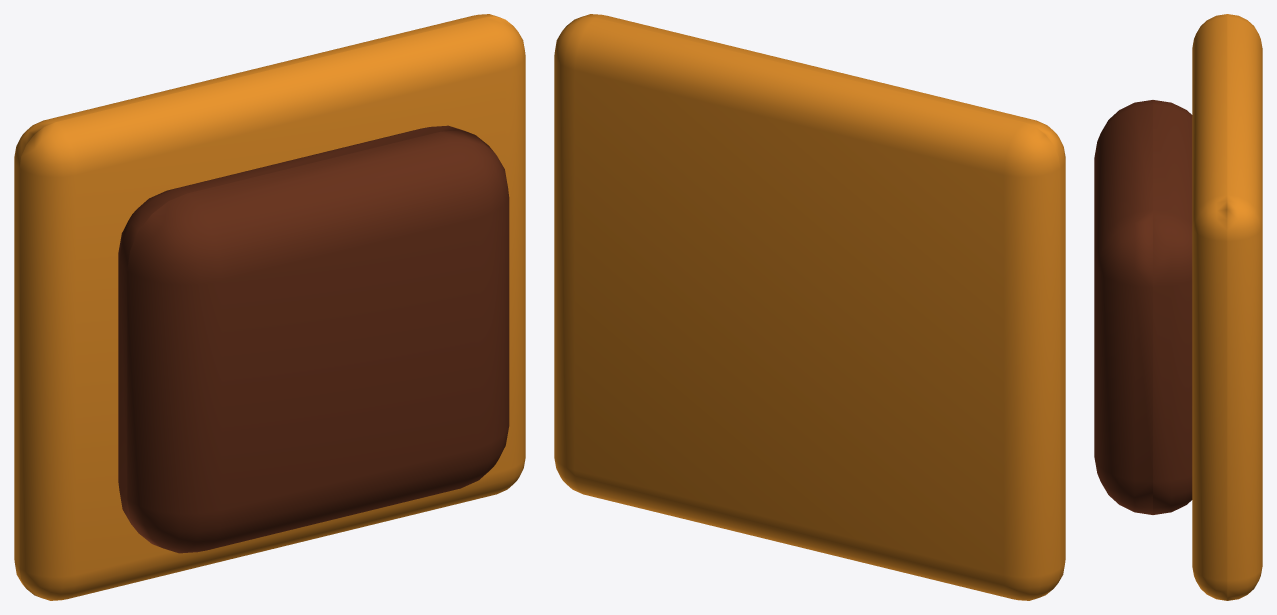
Rendered from socket.glb.
3 renders of one model, left to right at view 1: azimuth 30°, elevation 25°; view 2: azimuth 150°, elevation 25°; view 3: azimuth 270°, elevation 25°, orthographic. The views are drawn at different scales.
Visible parts, largest first — view 1: SocketCavity, SocketRim; view 2: SocketRim; view 3: SocketRim, SocketCavity.
Part boxes in pixels (<box>): SocketCavity: <box>118,125,509,553</box>; SocketRim: <box>14,14,525,600</box>; SocketRim: <box>554,14,1065,600</box>; SocketRim: <box>1192,14,1262,600</box>; SocketCavity: <box>1094,100,1192,514</box>.
Bounding box in the file's own units: 0.6272 × 0.5684 × 0.215.
